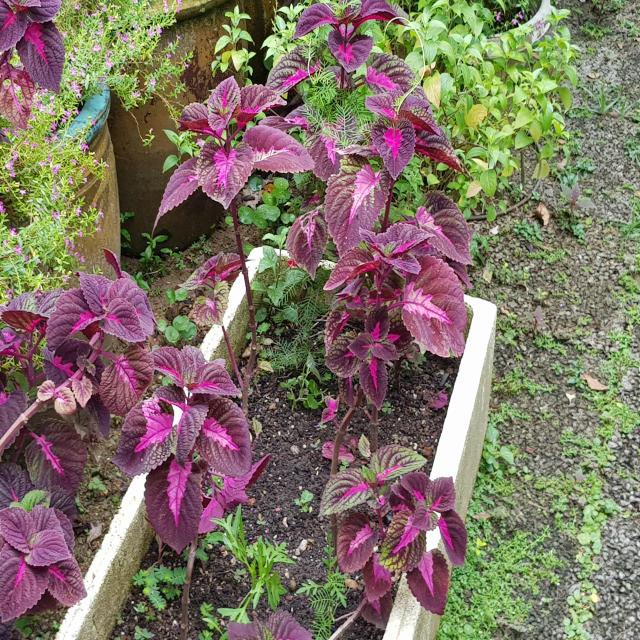Coleus: (278, 2, 481, 414), (28, 276, 249, 536), (306, 436, 497, 601), (152, 65, 316, 228), (0, 388, 85, 503), (0, 494, 88, 604), (0, 0, 61, 90)
